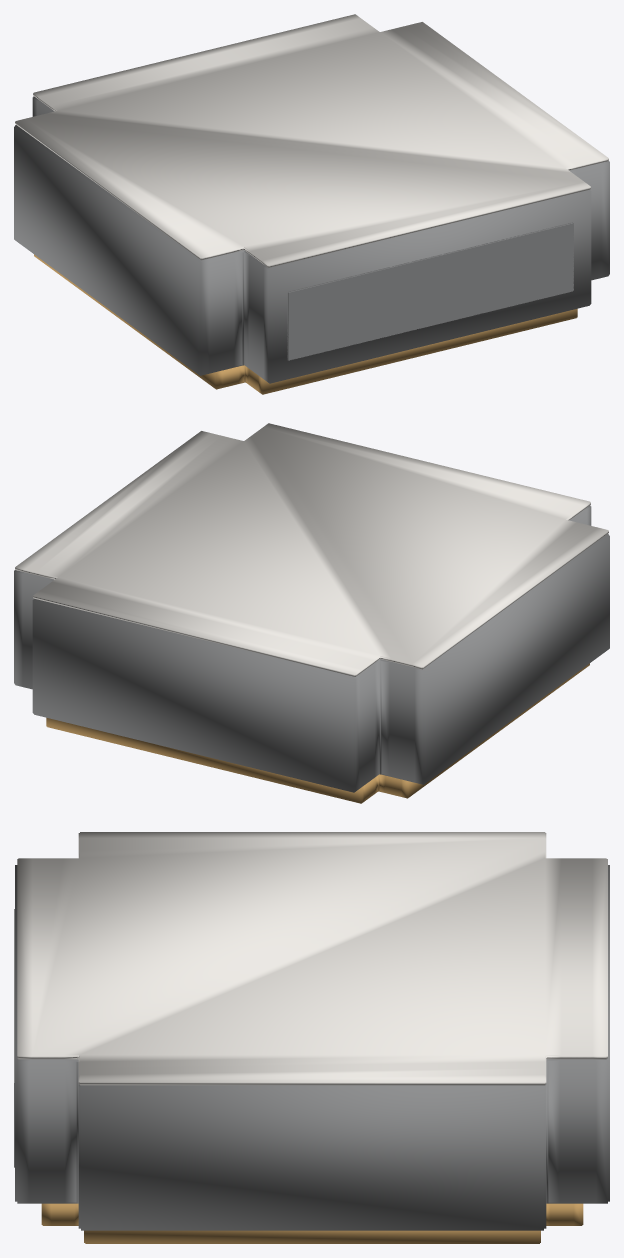
The picture shows the model from 3 angles, top to bottom: view 1: azimuth 30°, elevation 25°; view 2: azimuth 150°, elevation 25°; view 3: azimuth 270°, elevation 25°; orthographic projection. The views are drawn at different scales.
Parts seen in each view (by area): view 1: eorde-coffee-table; view 2: eorde-coffee-table; view 3: eorde-coffee-table.
Part boxes in pixels (left/top/right/bottom): eorde-coffee-table: left=14, top=14, right=609, bottom=394; eorde-coffee-table: left=14, top=423, right=609, bottom=803; eorde-coffee-table: left=14, top=832, right=609, bottom=1243.
Size of the model in its own units: 1.12 by 0.36 by 1.12.
